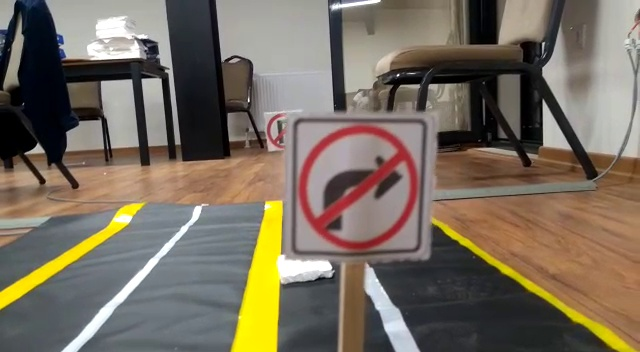saga_donulmez: (290, 113, 419, 253)
